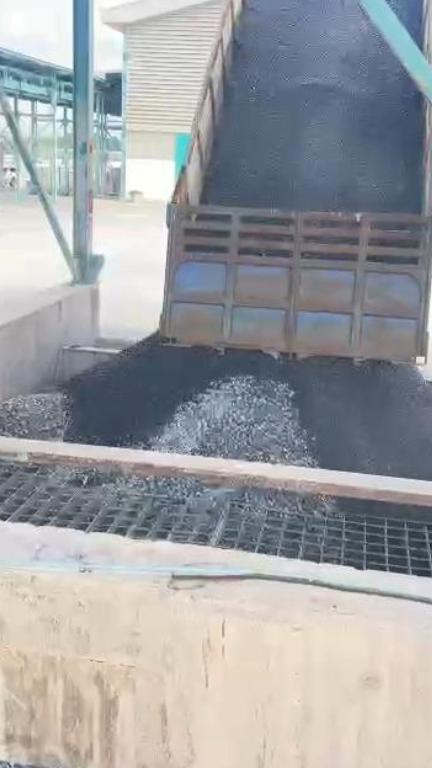gravel: (67, 338, 432, 483), (203, 0, 421, 211), (72, 469, 335, 514), (0, 749, 424, 768), (0, 392, 67, 439), (368, 0, 421, 41)
